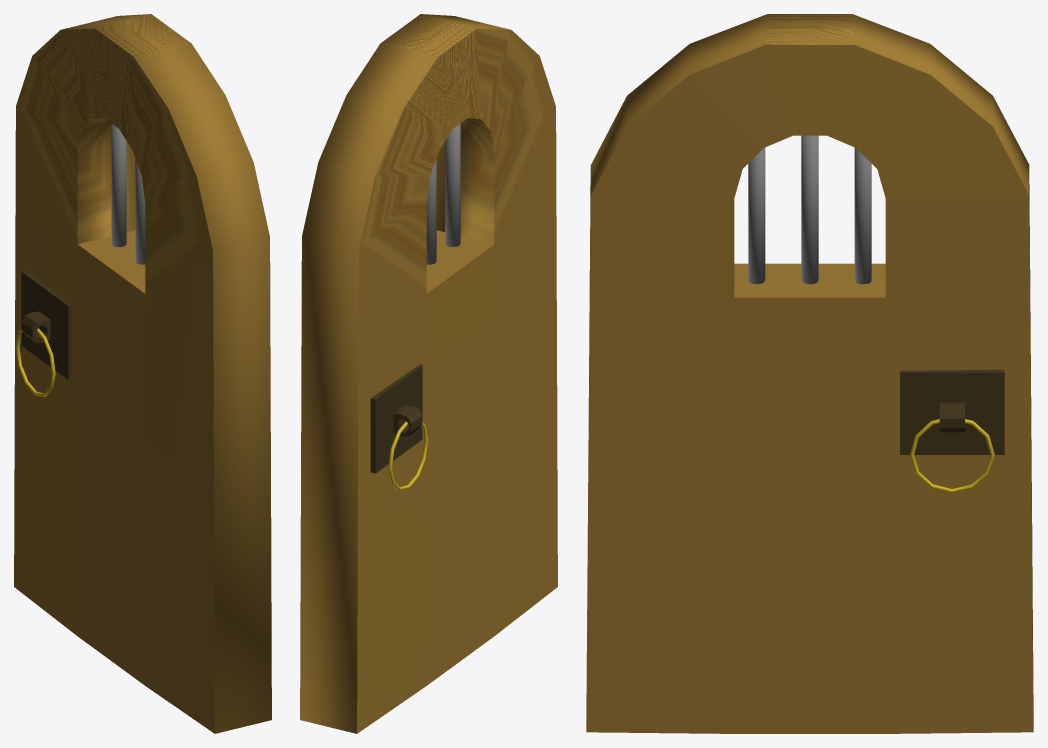
Rendered from Door_Bars.fbx.
3 views of the same model, side by side, from view 1: azimuth 30°, elevation 25°; view 2: azimuth 150°, elevation 25°; view 3: azimuth 270°, elevation 25° (orthographic). The views are drawn at different scales.
Visible parts, largest first — view 1: Door_Bars; view 2: Door_Bars; view 3: Door_Bars.
Part boxes in pixels (x1,y1,x2,y2): Door_Bars: (14,14,271,733); Door_Bars: (300,14,557,733); Door_Bars: (586,14,1033,733).
Size of the model in its own units: 145 by 824 by 486.
